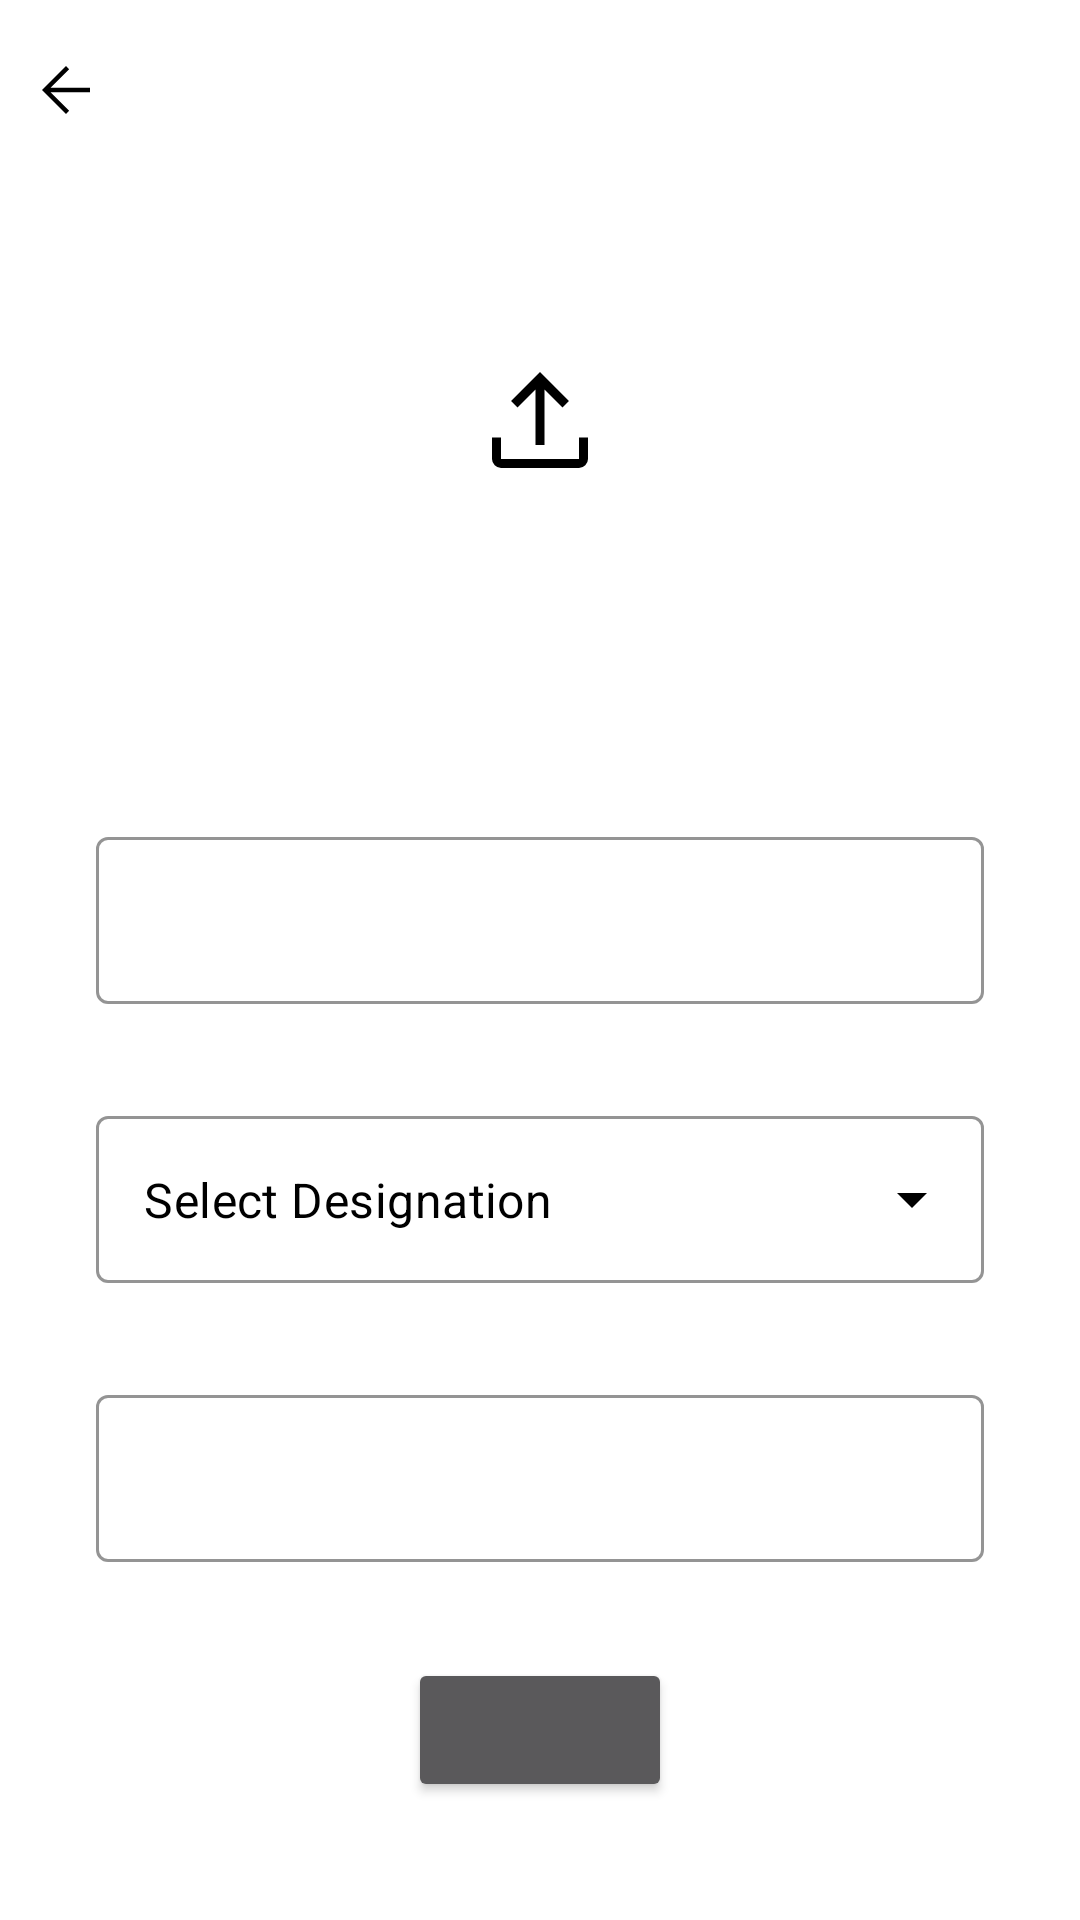

Locate icon controls on the screen. Image size 1080*1920, boxes as (x1, y1, x2, y2).
back: (42, 66, 90, 114)
upload: (492, 372, 588, 468)
